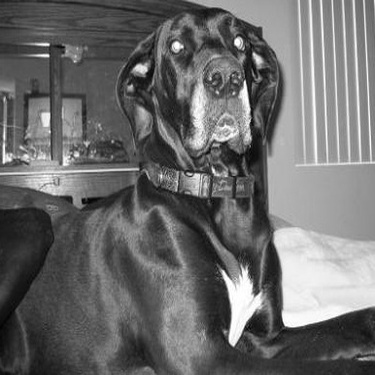dog: (2, 3, 370, 370)
